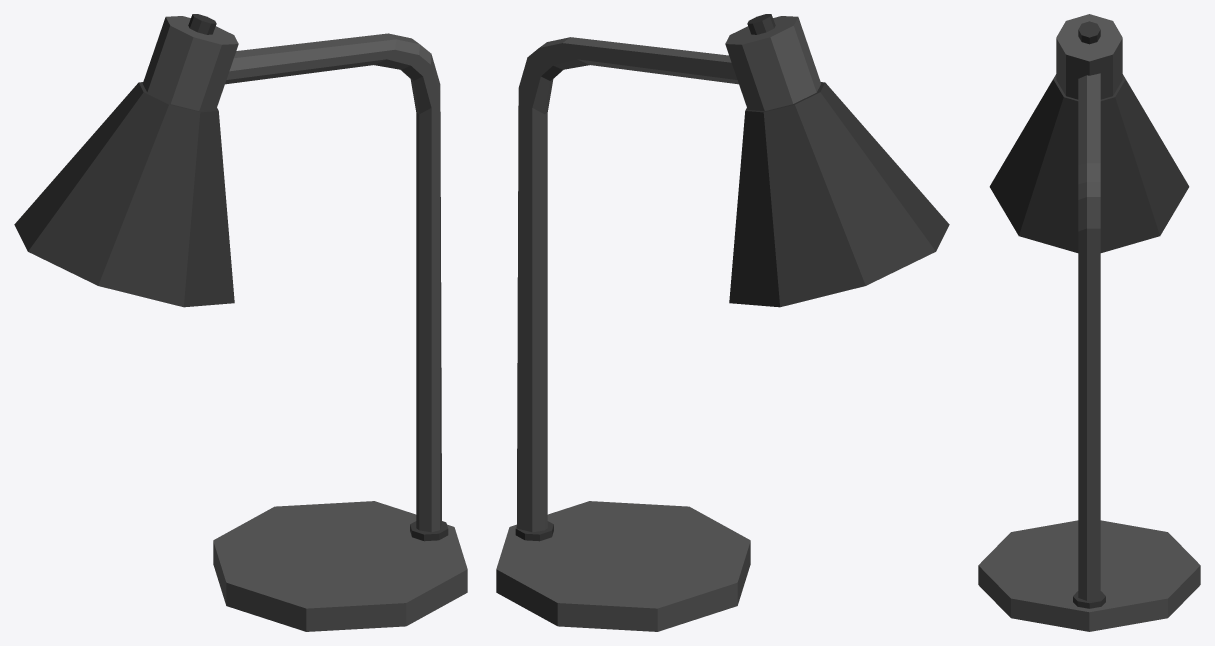
Rendered from SM_Props_DeskLamp_01.fbx.
The picture shows the model from 3 angles, left to right: view 1: azimuth 30°, elevation 25°; view 2: azimuth 150°, elevation 25°; view 3: azimuth 270°, elevation 25°; orthographic projection. The views are drawn at different scales.
Visible parts, largest first — view 1: SM_Props_DeskLamp_01; view 2: SM_Props_DeskLamp_01; view 3: SM_Props_DeskLamp_01.
Part boxes in pixels (x1=…): SM_Props_DeskLamp_01: x1=14, y1=14, x2=467, y2=631; SM_Props_DeskLamp_01: x1=496, y1=14, x2=949, y2=631; SM_Props_DeskLamp_01: x1=978, y1=14, x2=1200, y2=631.
Size of the model in its own units: 0.3739 by 0.5 by 0.2.
